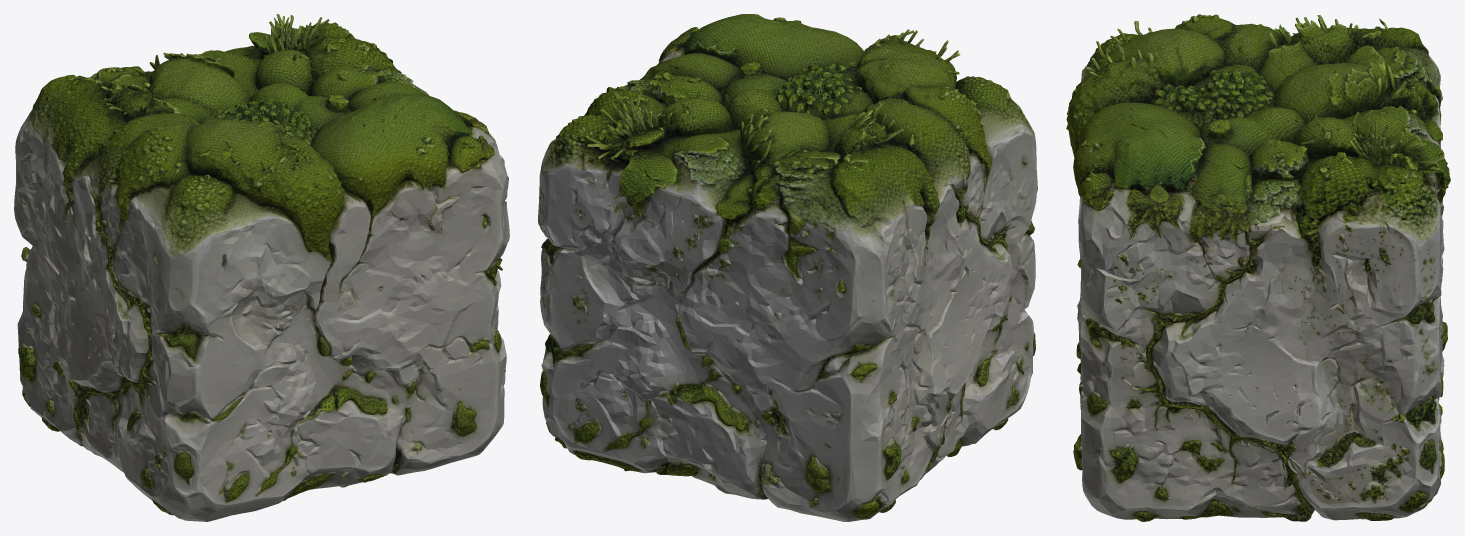
The model's file is ground_block_top.glb.
3 renders of one model, left to right at view 1: azimuth 30°, elevation 25°; view 2: azimuth 150°, elevation 25°; view 3: azimuth 270°, elevation 25°, orthographic. The views are drawn at different scales.
Visible parts, largest first — view 1: tripo_node_34d96092-42ac-4324-a288-b9f98b0bfdd2; view 2: tripo_node_34d96092-42ac-4324-a288-b9f98b0bfdd2; view 3: tripo_node_34d96092-42ac-4324-a288-b9f98b0bfdd2.
Boxes of the visible parts, x1=… form: tripo_node_34d96092-42ac-4324-a288-b9f98b0bfdd2: x1=14, y1=14, x2=509, y2=521; tripo_node_34d96092-42ac-4324-a288-b9f98b0bfdd2: x1=538, y1=14, x2=1037, y2=521; tripo_node_34d96092-42ac-4324-a288-b9f98b0bfdd2: x1=1066, y1=14, x2=1450, y2=521.
Bounding box in the file's own units: 1 × 0.9761 × 0.8913.
Materials: 1 (1 with a texture image).
